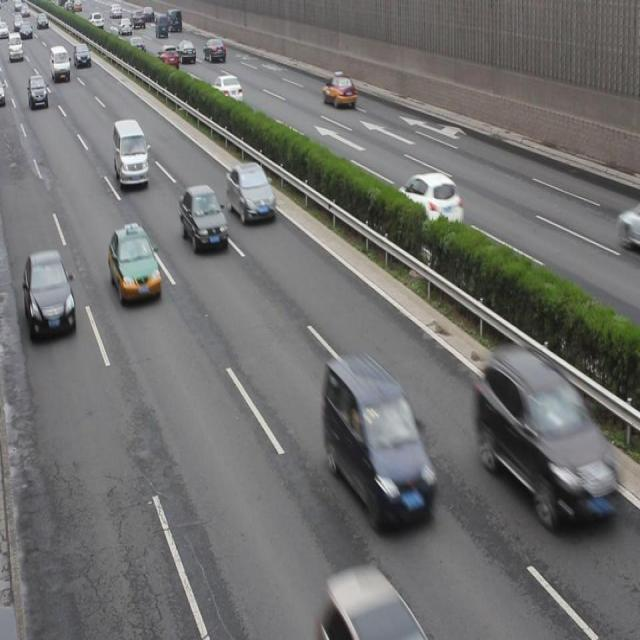car: (475, 346, 615, 532), (323, 352, 436, 530), (324, 569, 422, 640), (23, 251, 76, 339), (110, 226, 162, 304), (396, 172, 463, 230), (179, 186, 228, 253), (226, 162, 276, 224), (322, 72, 356, 109), (212, 74, 242, 105), (29, 74, 49, 110), (202, 38, 225, 62), (156, 46, 178, 68), (74, 43, 92, 68), (128, 35, 147, 56), (176, 42, 195, 62), (155, 13, 169, 39)
truck: (114, 118, 150, 187), (50, 45, 71, 81), (166, 7, 182, 34)
